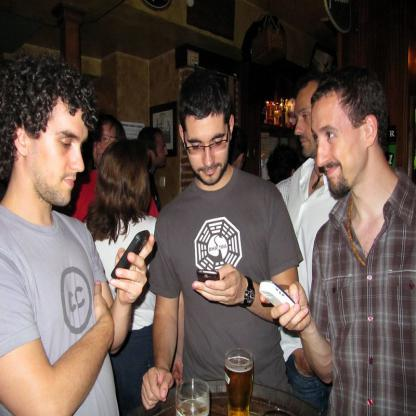drinking: (224, 348, 254, 415)
